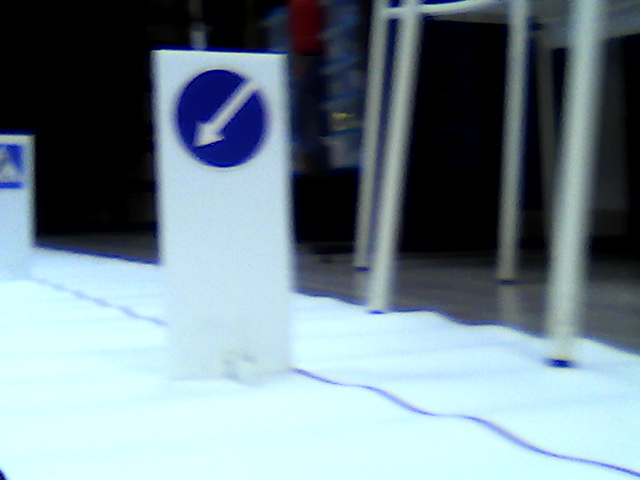prep: (171, 69, 268, 175)
